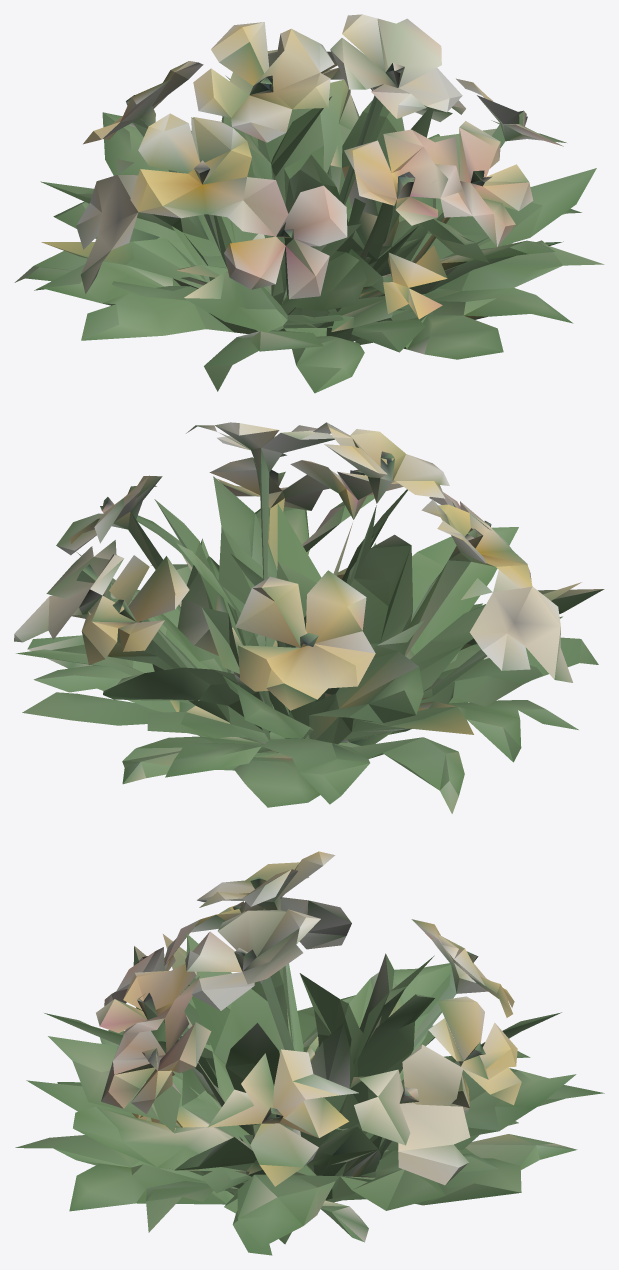
Rendered from flower_patch.glb.
The picture shows the model from 3 angles, top to bottom: view 1: azimuth 30°, elevation 25°; view 2: azimuth 150°, elevation 25°; view 3: azimuth 270°, elevation 25°; orthographic projection. The views are drawn at different scales.
Visible parts, largest first — view 1: geometry_0; view 2: geometry_0; view 3: geometry_0.
Boxes of the visible parts, x1,y1,x2,y2 form: geometry_0: [14, 14, 604, 393]; geometry_0: [14, 422, 604, 813]; geometry_0: [15, 851, 604, 1255].
Bounding box in the file's own units: 1.48 × 0.8399 × 1.5.
